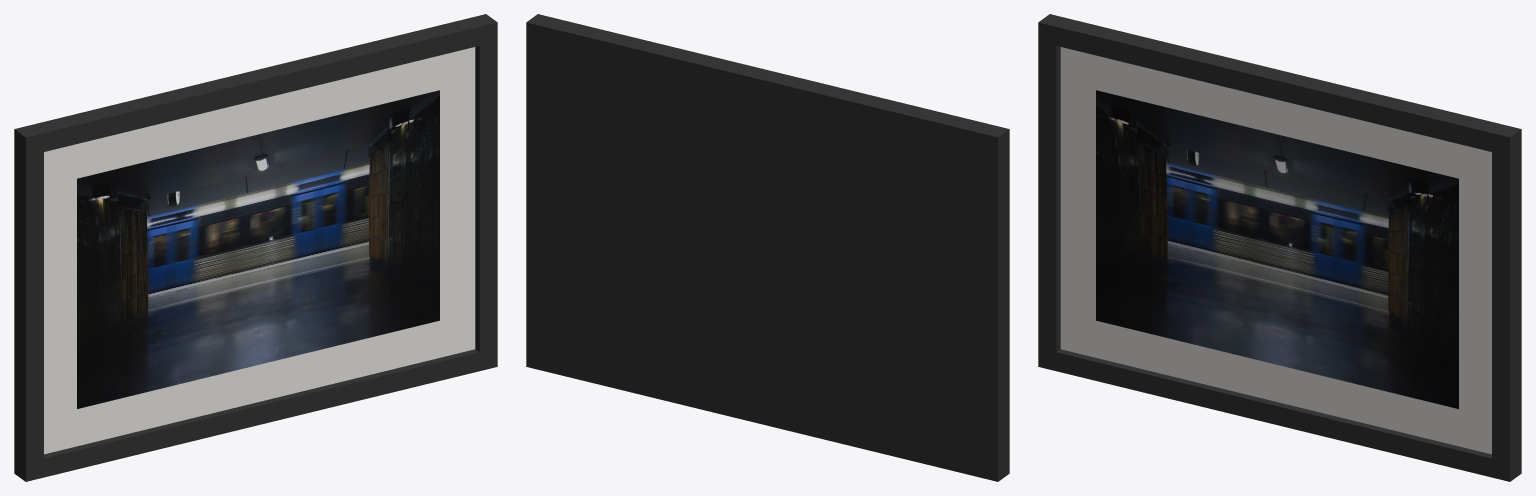
The model's file is taget-40.gltf.
3 views of the same model, side by side, from view 1: azimuth 30°, elevation 25°; view 2: azimuth 150°, elevation 25°; view 3: azimuth 330°, elevation 25° (orthographic).
Visible parts, largest first — view 1: tavla; view 2: tavla; view 3: tavla.
Part boxes in pixels (bbox=[...]): tavla: bbox=[14, 14, 497, 481]; tavla: bbox=[526, 14, 1009, 481]; tavla: bbox=[1038, 14, 1521, 481].
Size of the model in its own units: 0.52 by 0.3627 by 0.022.
3 materials, 1 textured.
